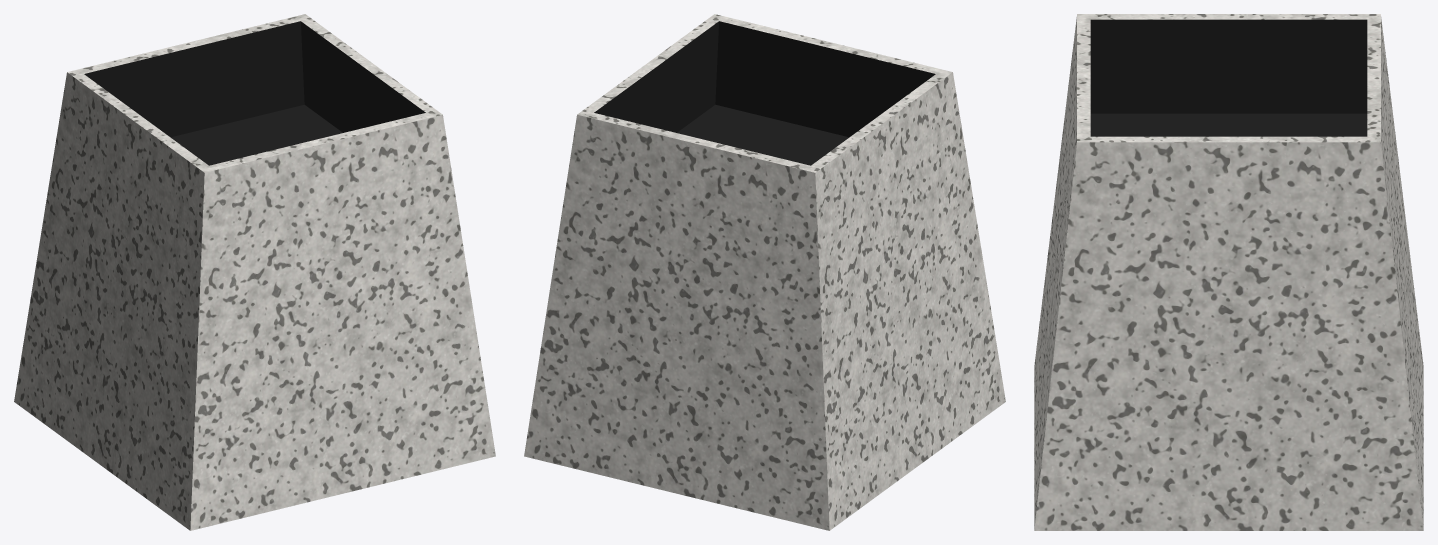
The model's file is pawn-white.glb.
3 views of the same model, side by side, from view 1: azimuth 30°, elevation 25°; view 2: azimuth 150°, elevation 25°; view 3: azimuth 270°, elevation 25° (orthographic). The views are drawn at different scales.
Parts seen in each view (by area): view 1: White_Pawn; view 2: White_Pawn; view 3: White_Pawn.
Boxes of the visible parts, bbox=[...] form: White_Pawn: bbox=[14, 14, 495, 530]; White_Pawn: bbox=[524, 14, 1005, 530]; White_Pawn: bbox=[1034, 14, 1423, 530].
Bounding box in the file's own units: 0.6857 × 0.72 × 0.6857.
Materials: 2 (1 with a texture image).
